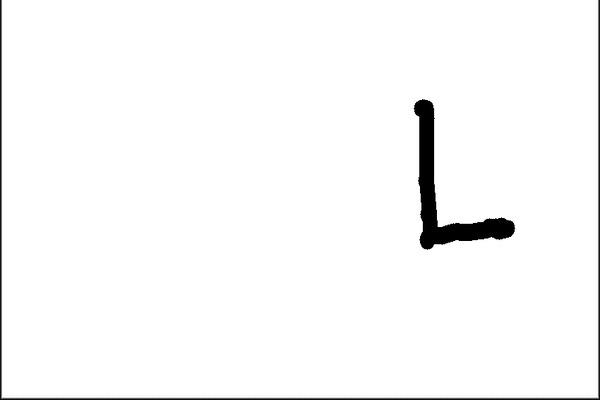L: (402, 95, 519, 254)
